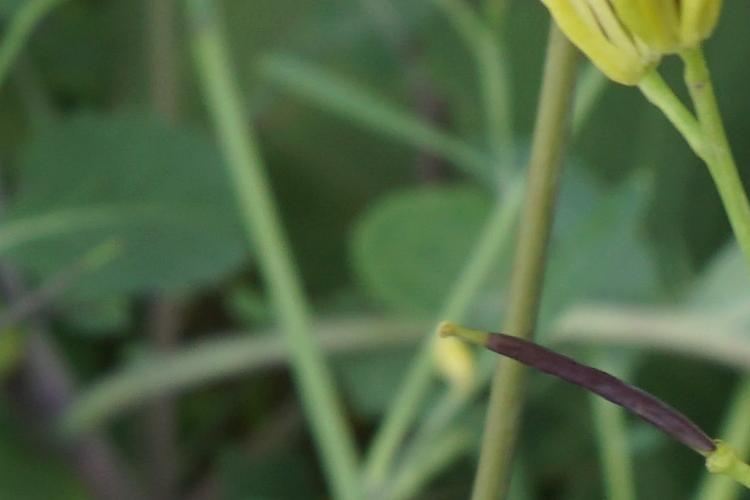pod: (410, 304, 739, 475)
